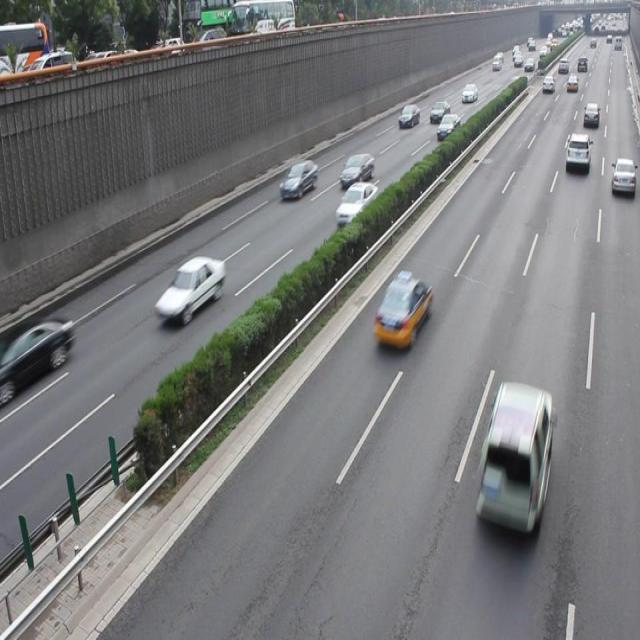car: (473, 381, 553, 541), (0, 310, 74, 390), (154, 255, 225, 323), (371, 274, 431, 349), (334, 182, 377, 226), (280, 158, 318, 200), (339, 151, 375, 187), (610, 156, 640, 198)
